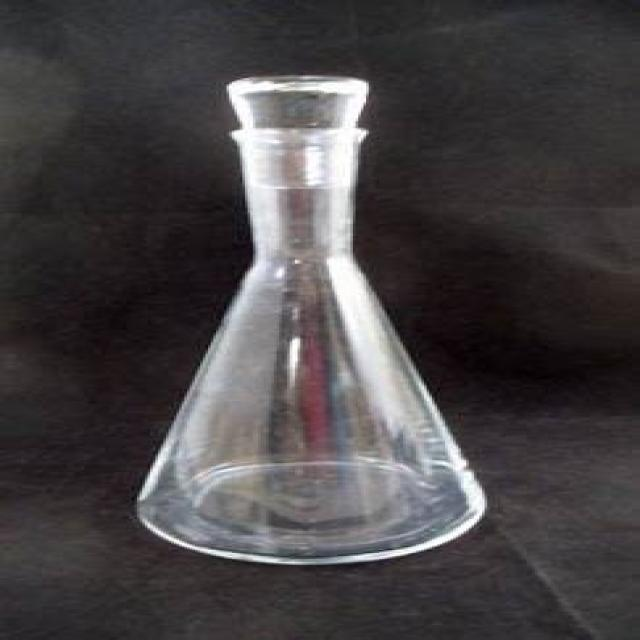Titrarion: (133, 54, 490, 559)
